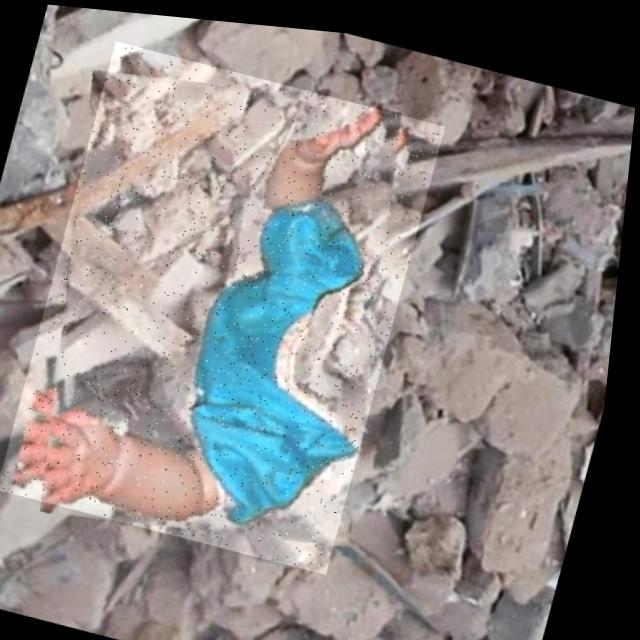Person in Rubble: (2, 33, 451, 572)
